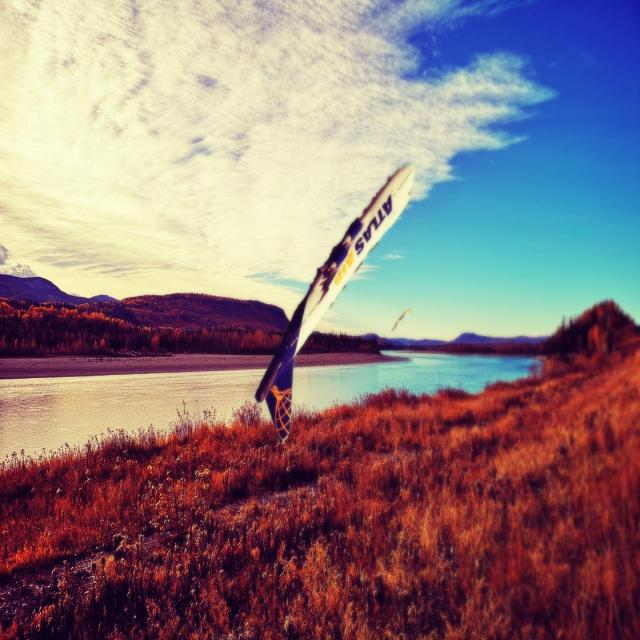airplane: (254, 160, 415, 444)
